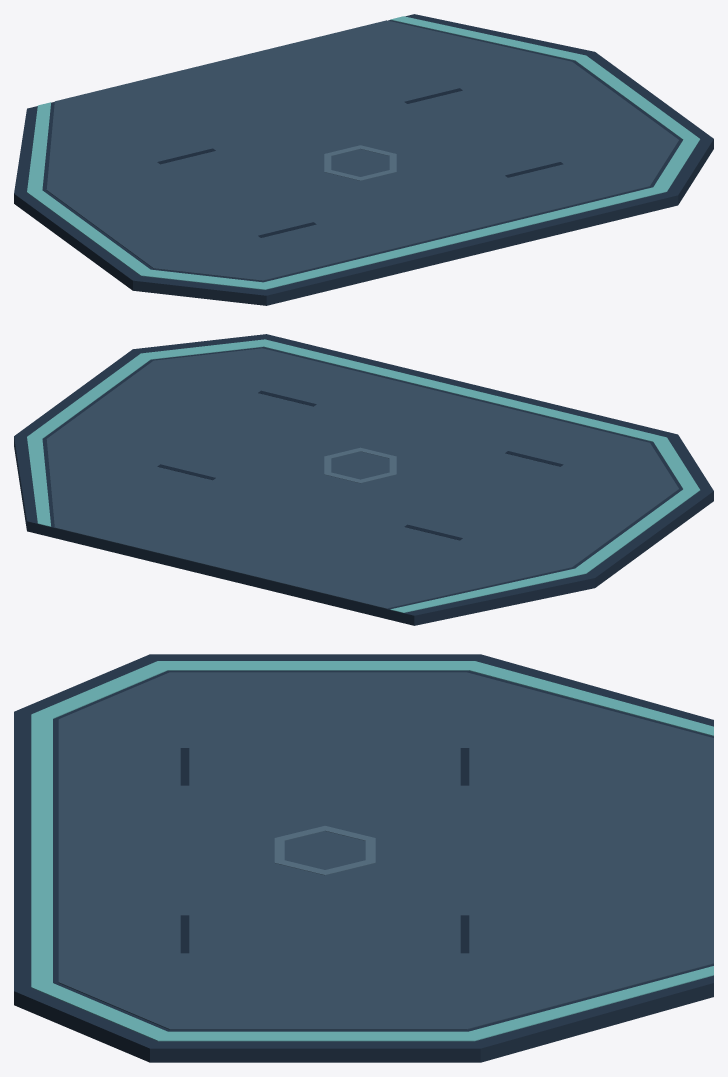
The model's file is campus_walk_landing_v01.glb.
3 renders of one model, top to bottom at view 1: azimuth 30°, elevation 25°; view 2: azimuth 150°, elevation 25°; view 3: azimuth 270°, elevation 25°, orthographic. The views are drawn at different scales.
Parts seen in each view (by area): view 1: campus_walk_landing; view 2: campus_walk_landing; view 3: campus_walk_landing.
Boxes of the visible parts, x1,y1,x2,y2 form: campus_walk_landing: (14,14,713,305); campus_walk_landing: (14,334,713,625); campus_walk_landing: (14,654,713,1062).
Bounding box in the file's own units: 4.8 × 0.086 × 3.6.
